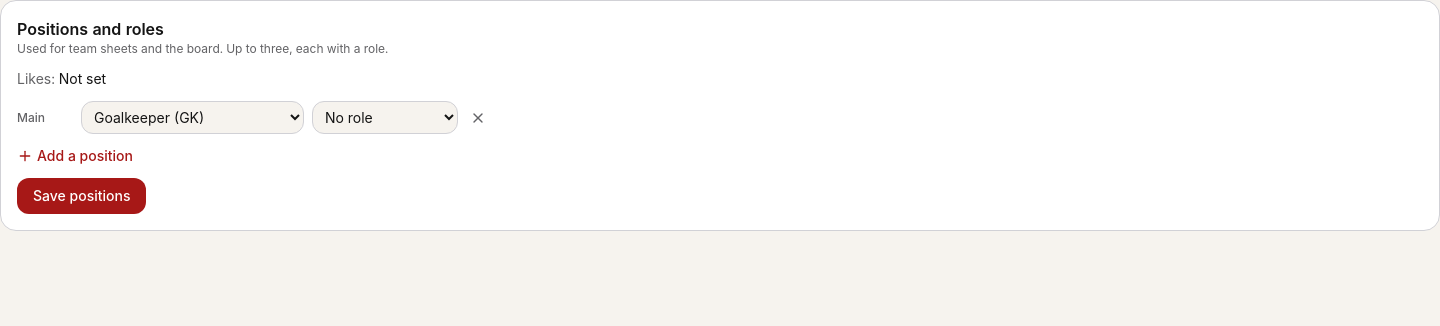
Test: PositionsEditor › adds up to three positions, never repeating one, and shows an error from the action
Click the button "Add a position" at x=75, y=156, box top-left (17, 146), bottom-right (133, 166)
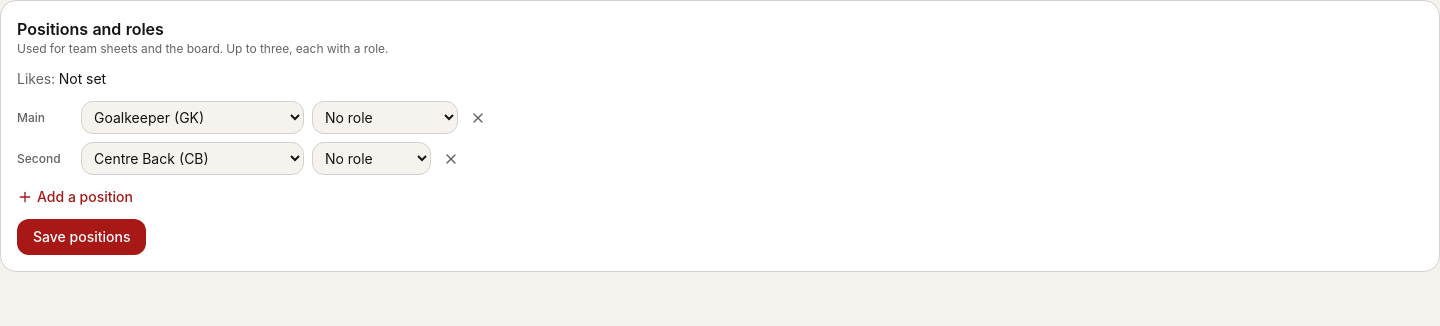
Click the button "Add a position" at x=75, y=197, box top-left (17, 187), bottom-right (133, 207)
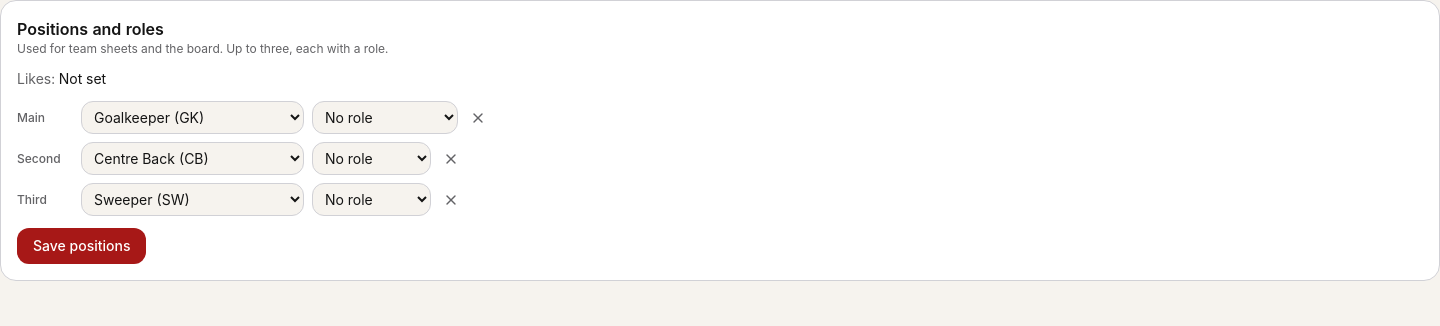
expect the button "Add a position" is gone: met
Click the button "Save positions" at x=82, y=246, box top-left (17, 228), bottom-right (146, 264)
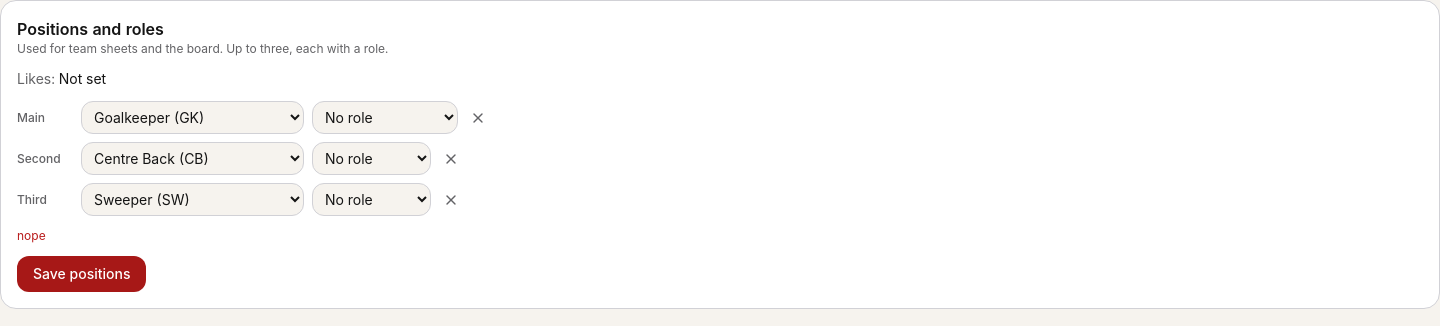
expect the text "nope" is shown: met, box top-left (17, 228), bottom-right (46, 243)
